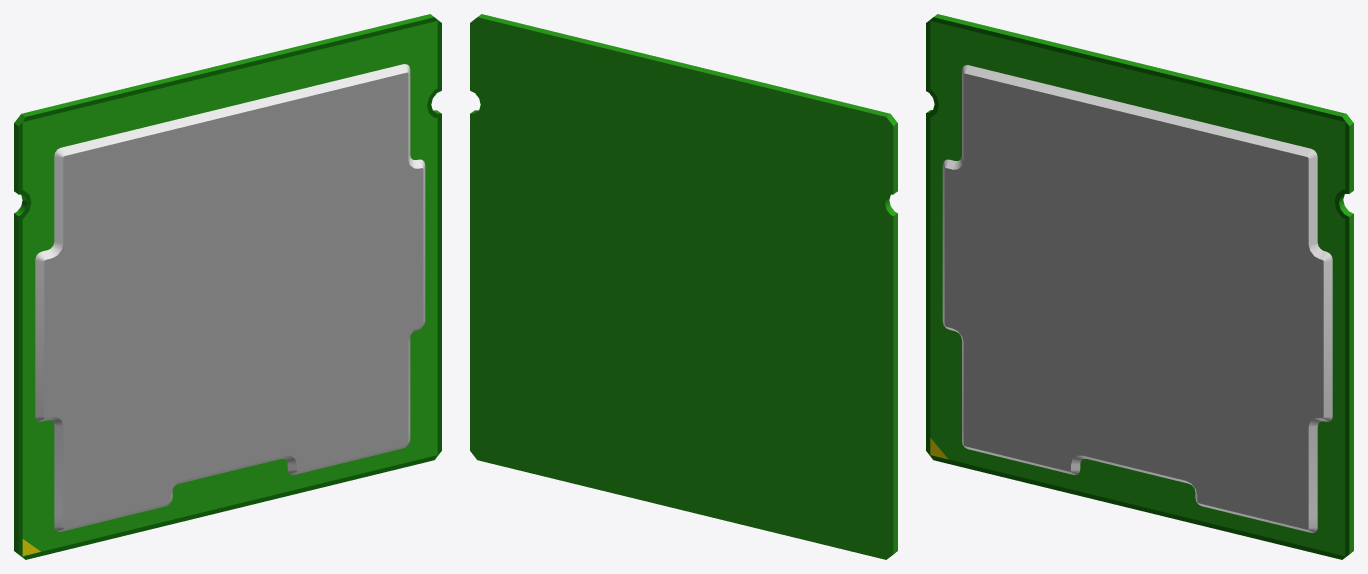
File: CPU.glb
3 renders of one model, left to right at view 1: azimuth 30°, elevation 25°; view 2: azimuth 150°, elevation 25°; view 3: azimuth 330°, elevation 25°, orthographic.
Visible parts, largest first — view 1: CPU; view 2: CPU; view 3: CPU.
Boxes of the visible parts, <box> form: CPU: <box>14,14,441,559</box>; CPU: <box>470,14,897,559</box>; CPU: <box>926,14,1353,559</box>.
Bounding box in the file's own units: 0.1148 × 0.1148 × 0.00375.
